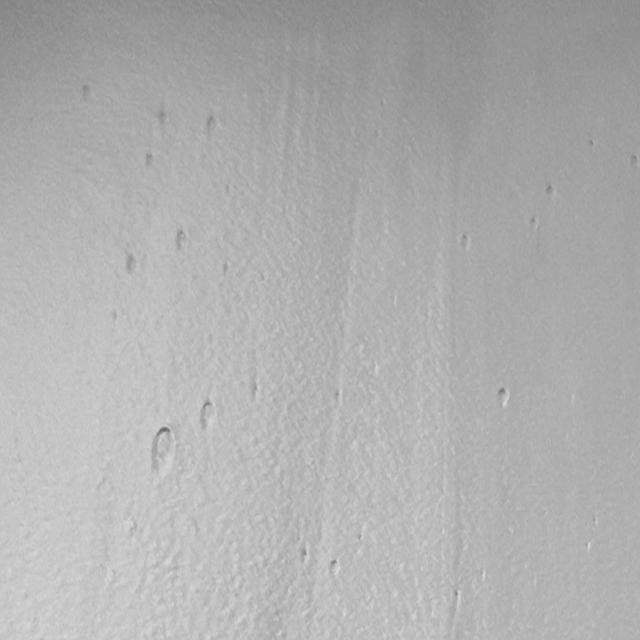pin holes: (147, 424, 177, 476), (198, 398, 219, 431), (172, 226, 193, 255), (492, 385, 513, 412), (202, 113, 223, 140), (122, 251, 142, 277), (76, 82, 97, 106), (142, 151, 161, 175), (248, 380, 263, 405), (458, 232, 476, 252), (327, 558, 343, 580), (157, 109, 172, 131), (544, 182, 559, 203), (527, 214, 539, 237), (299, 546, 311, 566), (332, 391, 344, 409), (586, 136, 599, 152), (628, 154, 638, 172), (582, 540, 594, 554)
